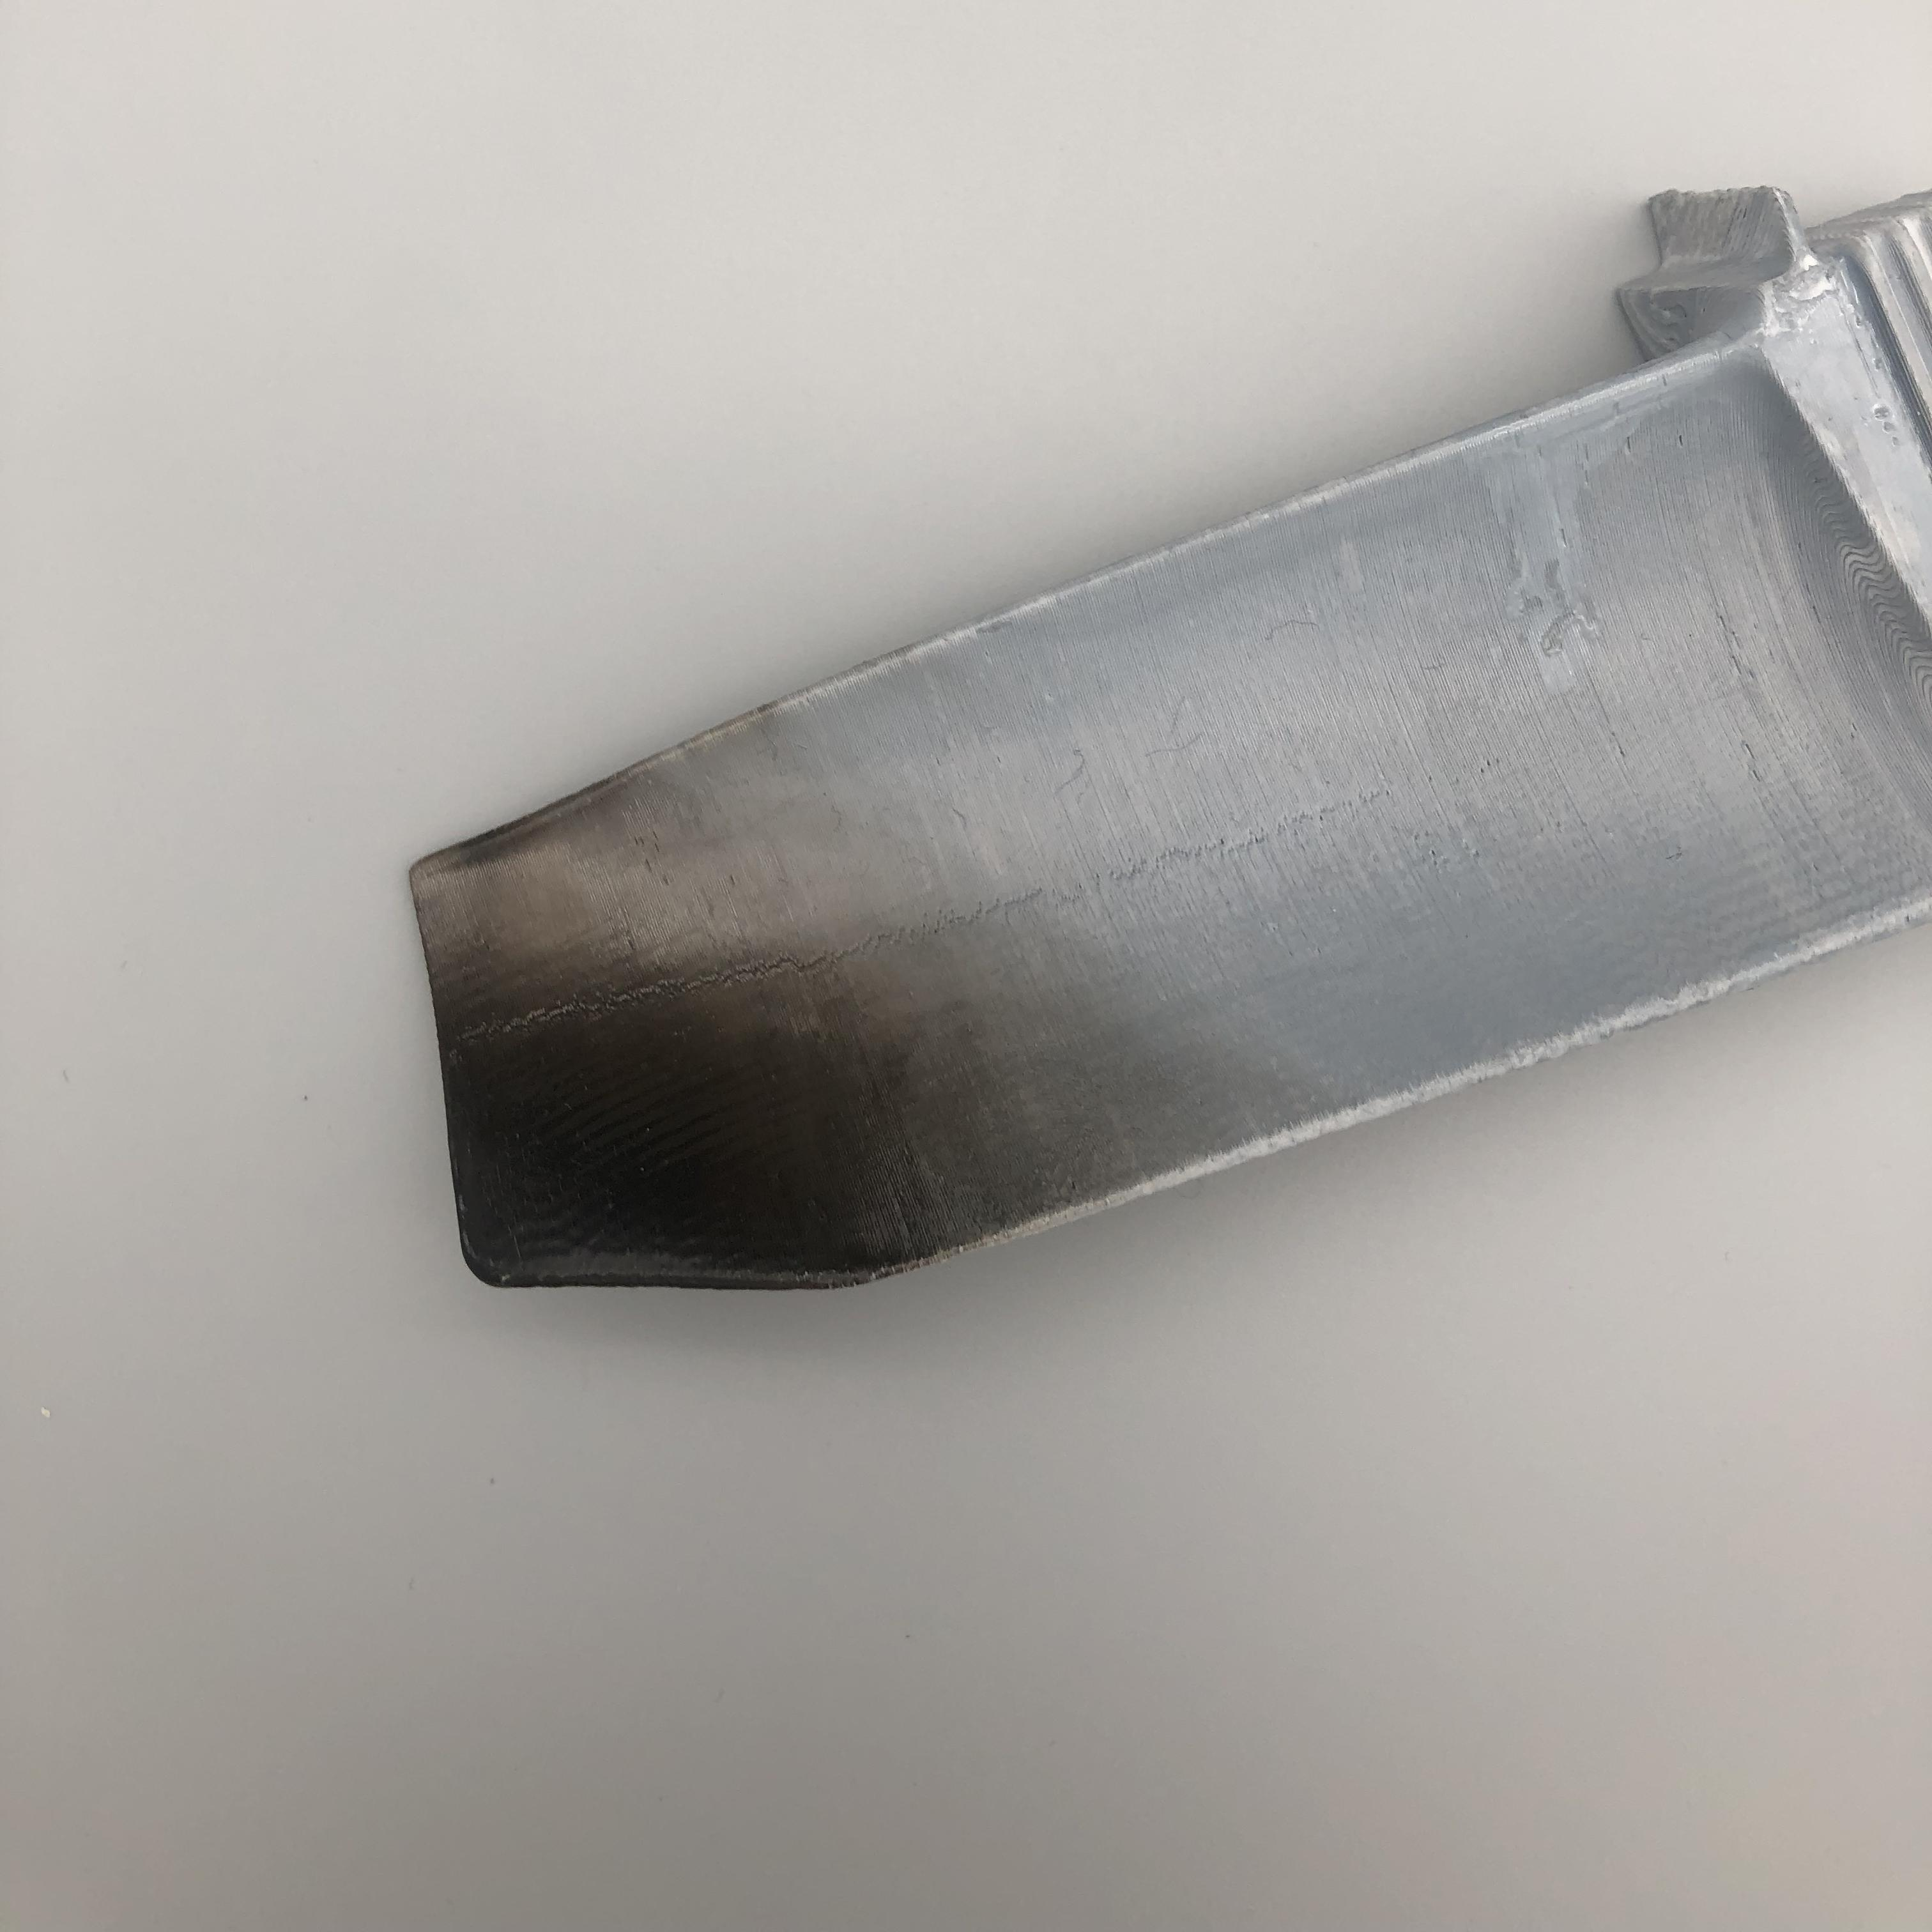ablation: (449, 897, 966, 1238)
